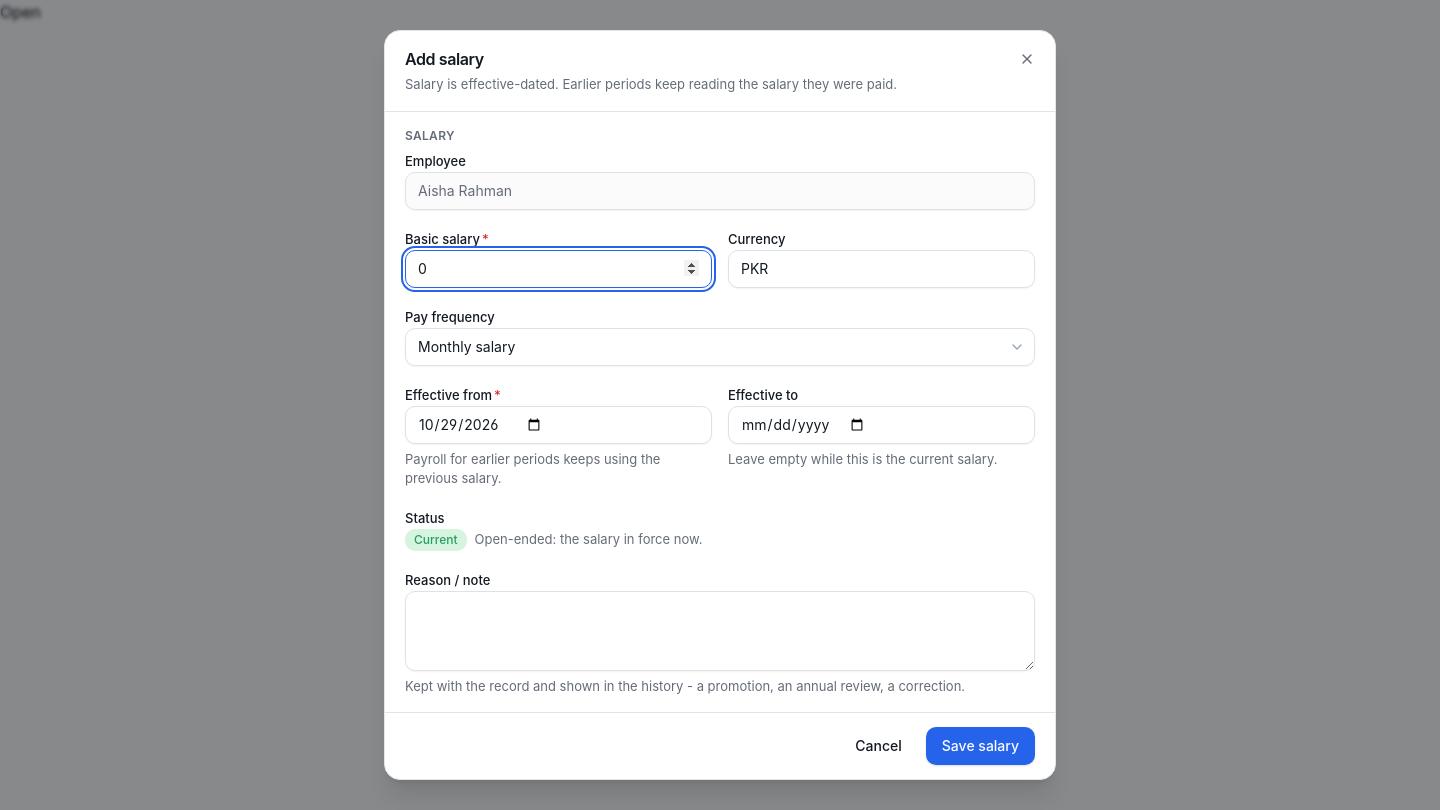
Test: SalaryDialog: validation › rejects a negative basic salary with the shared rule
The image size is (1440, 810).
Replace the text in the number field labelled "Basic salary*" with "-5" at (558, 268), box [405,250,712,288]
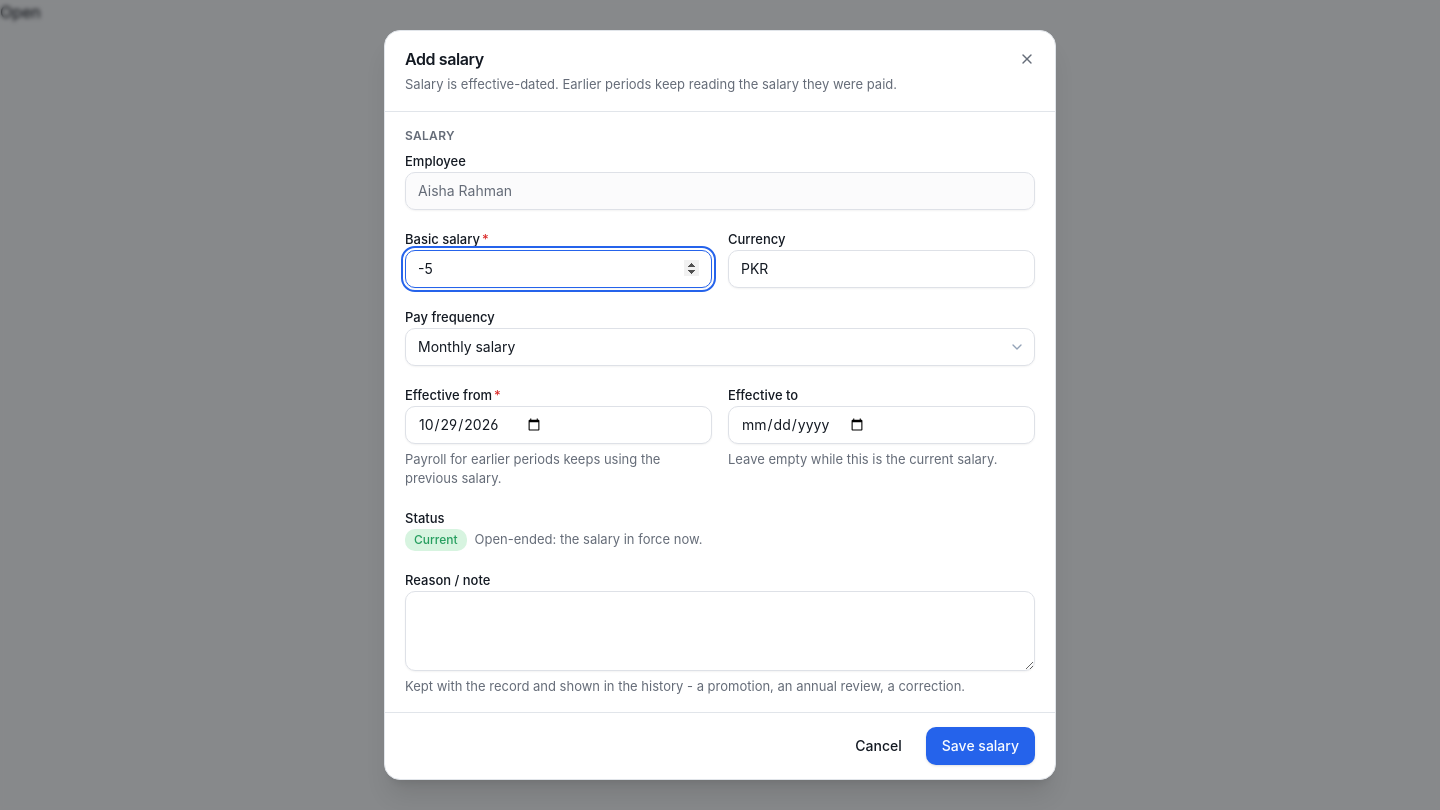
Click the button "Save salary" at (980, 746), box [926,727,1035,765]
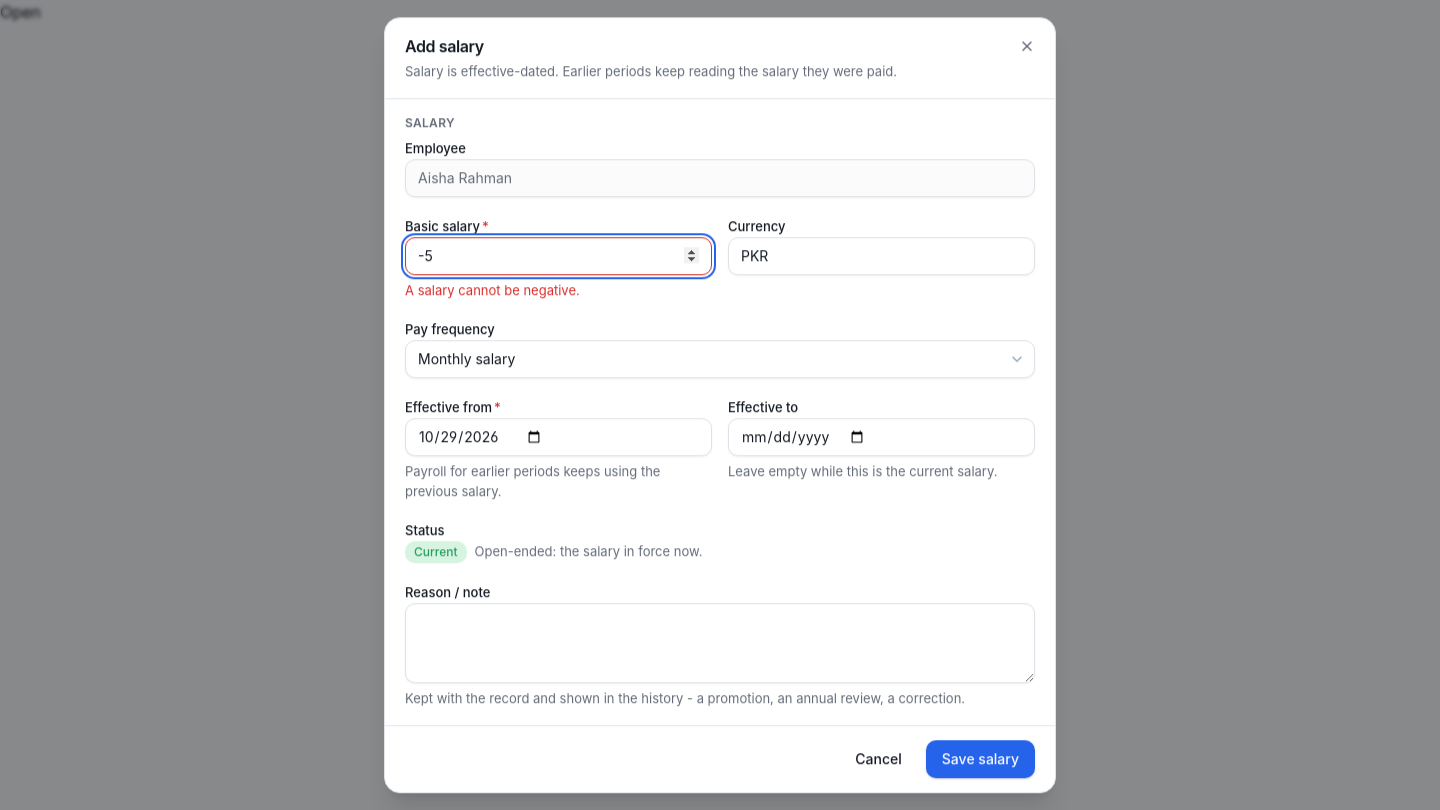
Check: the text "A salary cannot be negative." is shown, box [405,282,580,298]
